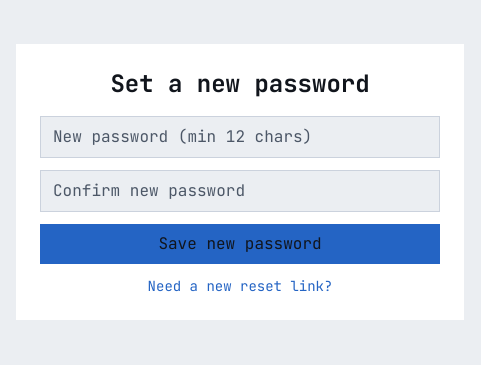
ResetPasswordPage › rejects mismatched passwords
Type "long-strong-pass" into the password field with placeholder "New password (min 12 chars)" at [240, 137], box [40,116,440,158]
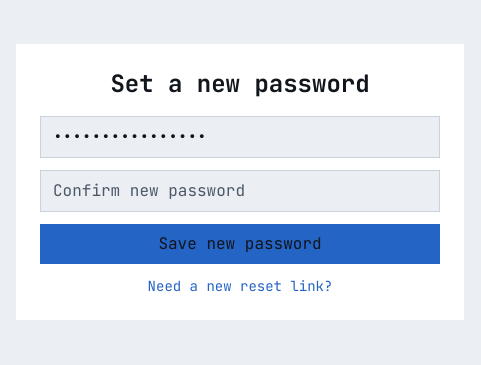
Type "different-pass-1" into the password field with placeholder "Confirm new password" at [240, 191], box [40,170,440,212]
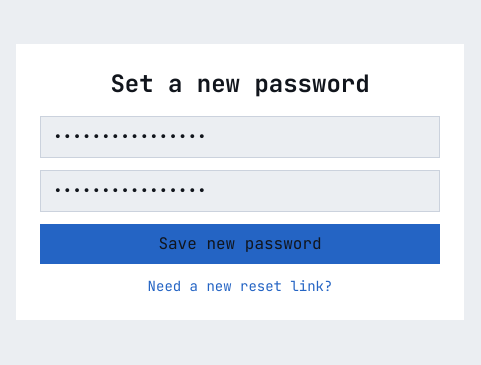
Click the button "Save new password" at [240, 244], box [40,224,440,264]
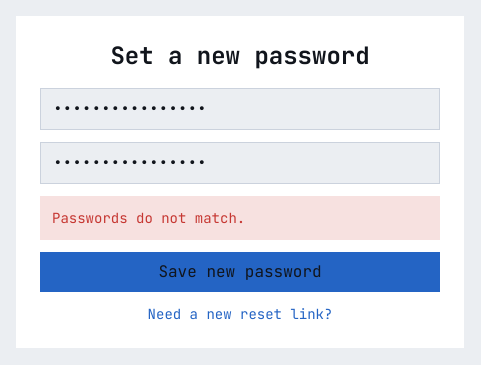
Now the text "Passwords do not match." is shown, box [40,196,440,240]
